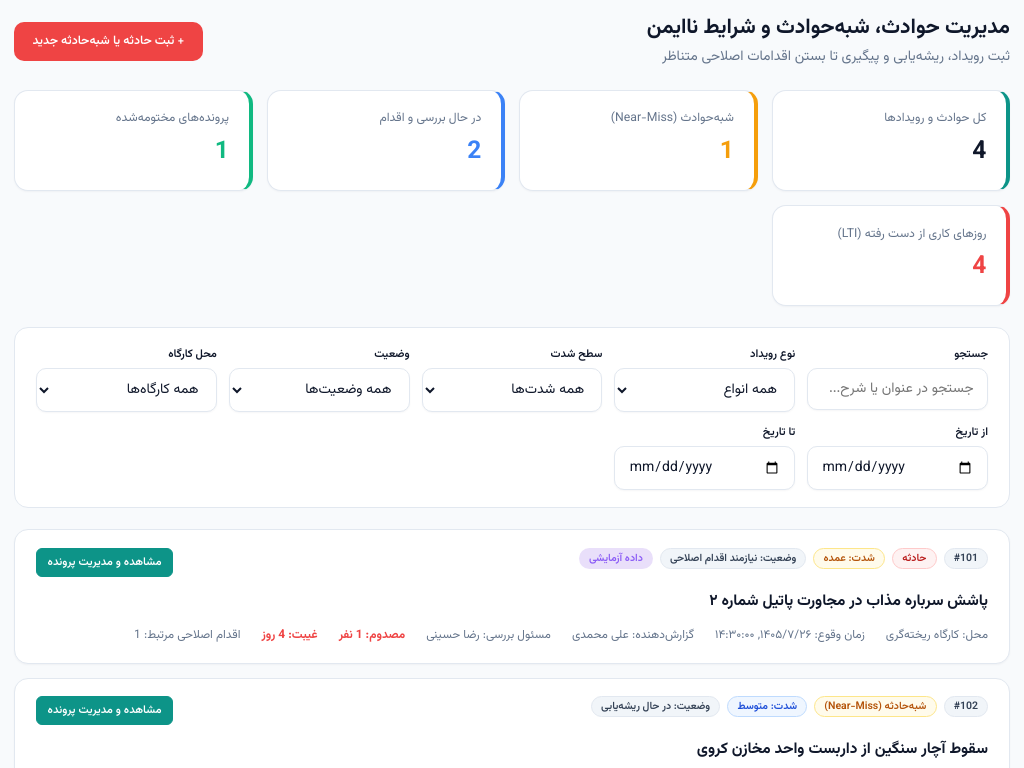
Test case: IncidentsPage › opens incident details and renders 5-Why root cause and linked CAPA
This screenshot has width=1024, height=768.
Click the button "مشاهده و مدیریت پرونده" in the row of "داده آزمایشی" at [105, 562], box [36, 548, 173, 577]
(page scrolled)
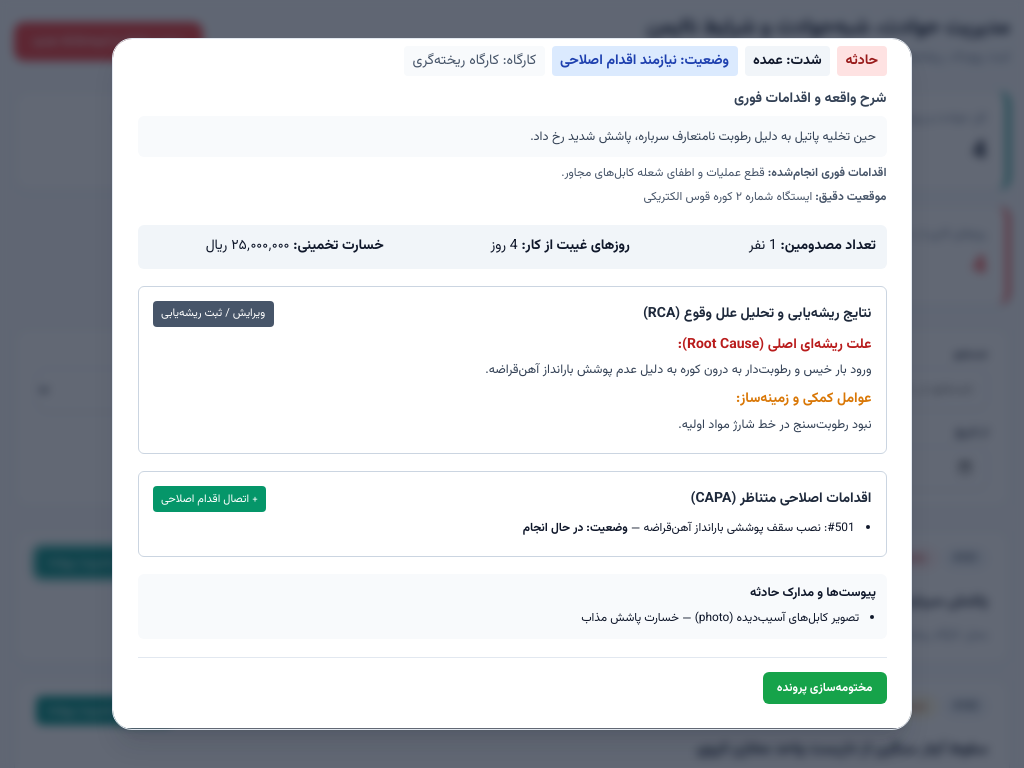
Expected: the heading "نتایج ریشه‌یابی و تحلیل علل وقوع (RCA)" is shown, [643, 304, 872, 323]
Expected: the text "ورود بار خیس و رطوبت‌دار به درون کوره" is shown, [485, 360, 872, 380]
Expected: the list item "#501: نصب سقف پوششی بارانداز آهن‌قراضه — وضعیت: در حال انجام" is shown, [523, 519, 855, 537]
